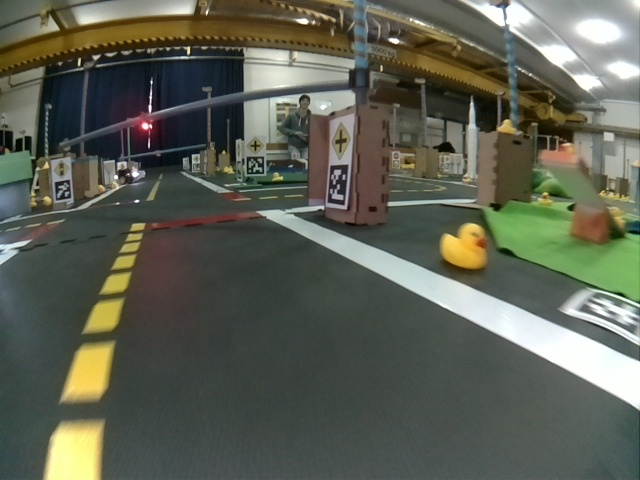Duckie: (444, 226, 488, 269), (498, 120, 515, 130)
Intersection sign: (331, 123, 352, 158), (248, 137, 264, 155)
QR code: (560, 287, 638, 345), (325, 164, 348, 203), (246, 158, 266, 176), (54, 183, 71, 200)
Signal sign: (54, 160, 71, 178)
Traffic light: (140, 114, 152, 130)
